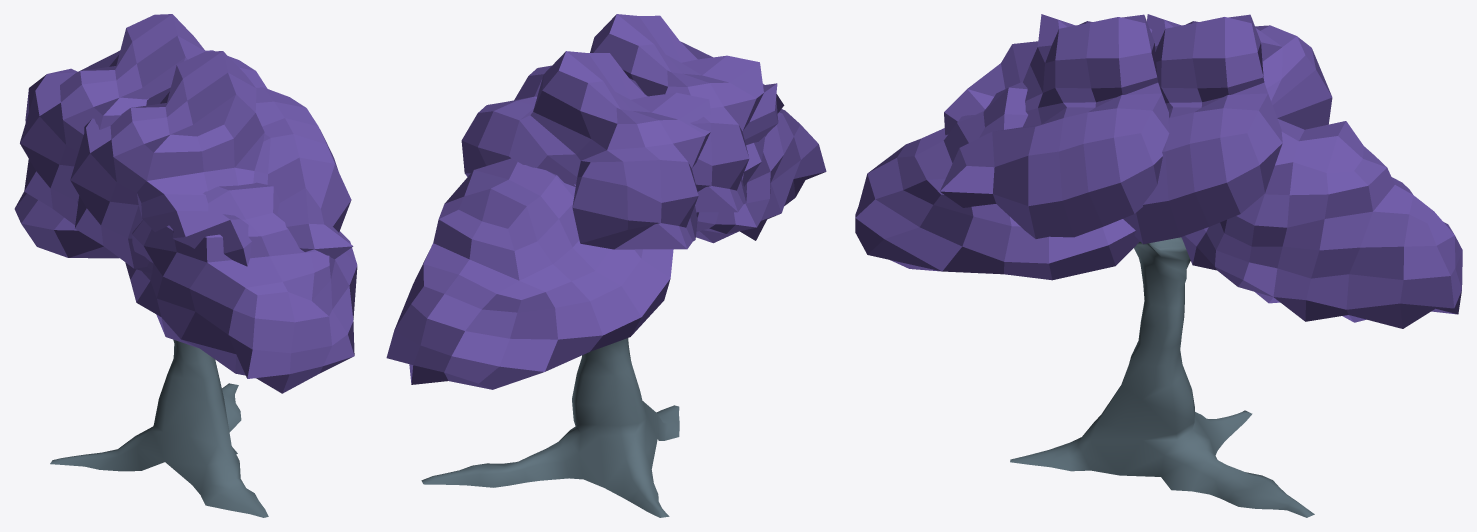
The model's file is ARBOL N4.fbx.
The picture shows the model from 3 angles, left to right: view 1: azimuth 30°, elevation 25°; view 2: azimuth 150°, elevation 25°; view 3: azimuth 270°, elevation 25°; orthographic projection. The views are drawn at different scales.
Parts seen in each view (by area): view 1: Arbol_N4; view 2: Arbol_N4; view 3: Arbol_N4.
Boxes of the visible parts, <box> form: Arbol_N4: <box>14,14,357,517</box>; Arbol_N4: <box>386,14,826,517</box>; Arbol_N4: <box>855,14,1462,517</box>.
Bounding box in the file's own units: 474 × 791 × 957.
